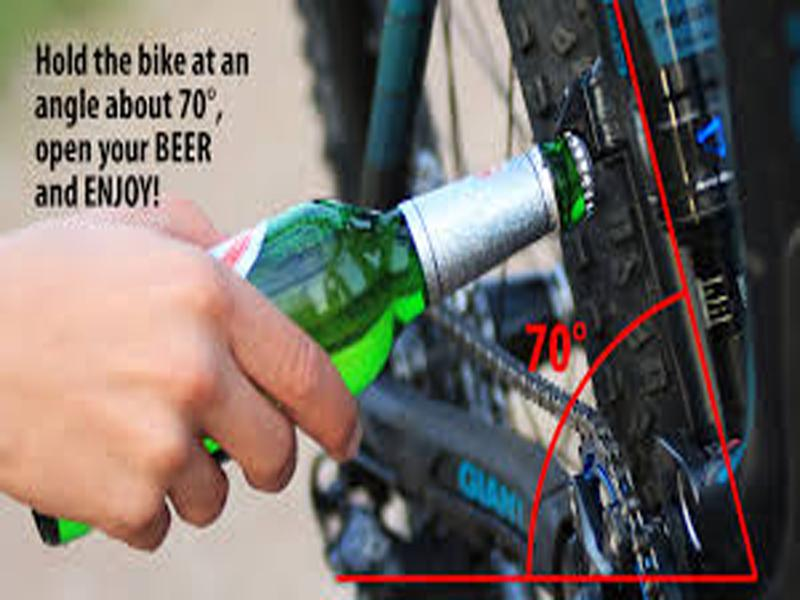Beer: (29, 132, 603, 546)
